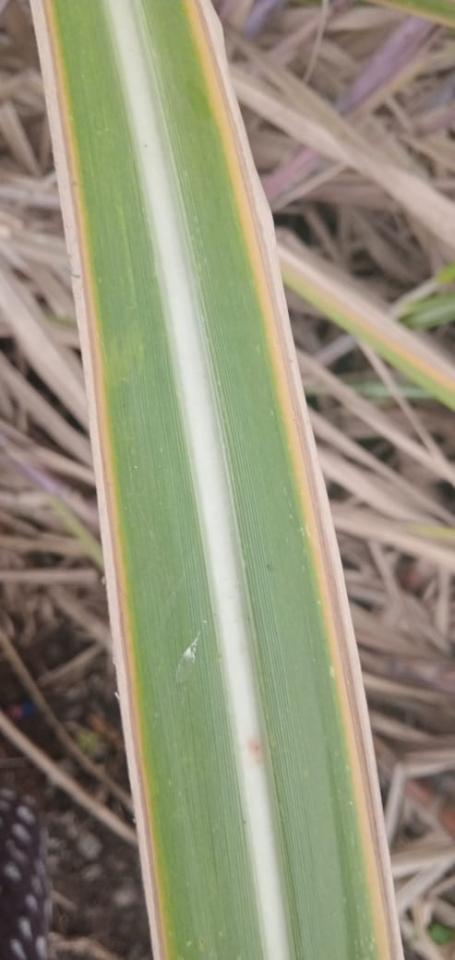RedRot: (246, 734, 264, 767)
Yellow: (185, 0, 405, 959), (29, 0, 169, 959)
